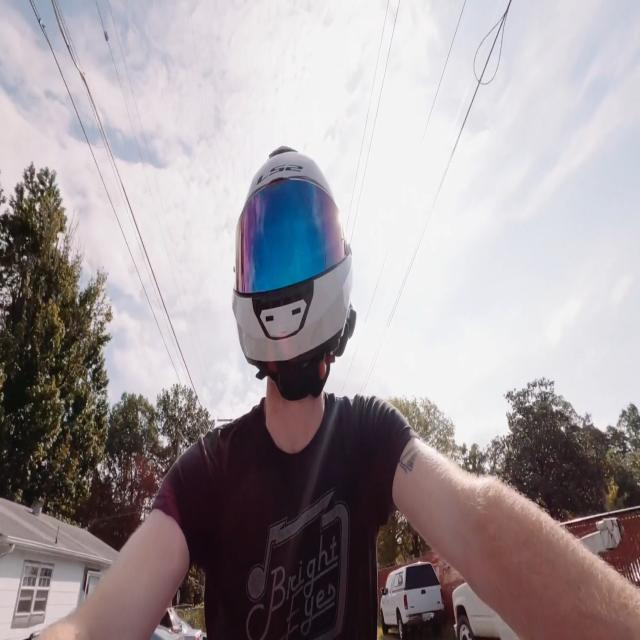Helmet_Wearer: (196, 138, 366, 414)
Person: (46, 141, 569, 640)
